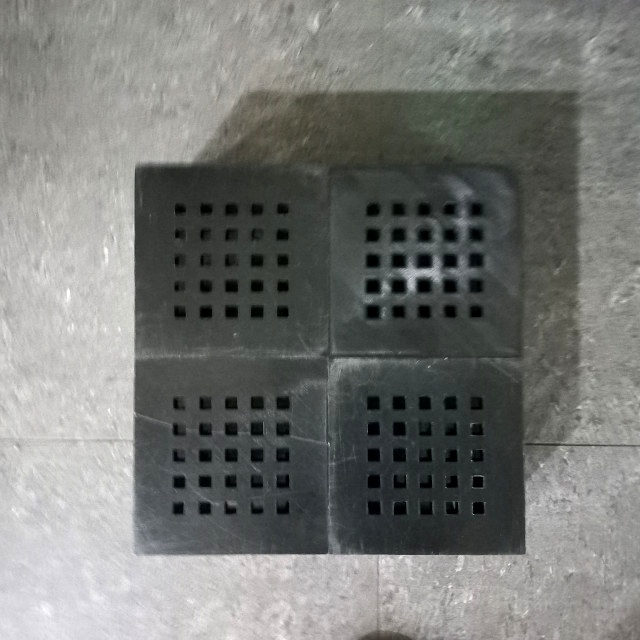pallet: (129, 157, 529, 560)
